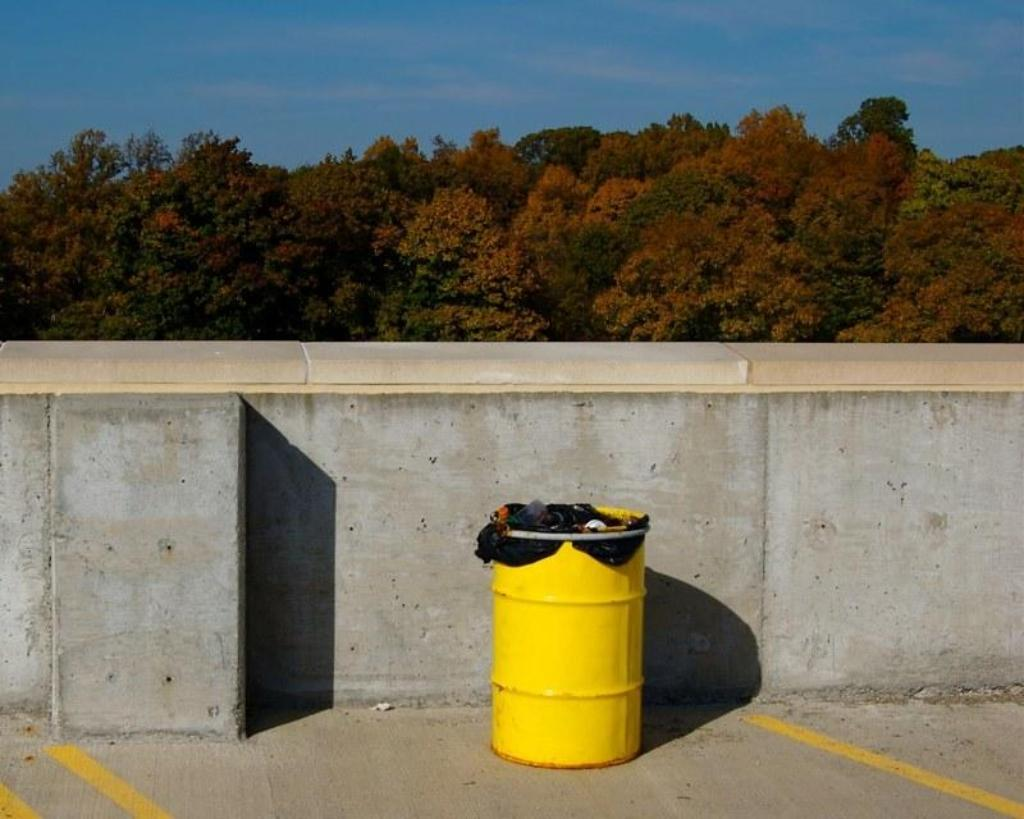dustbin: (483, 483, 659, 798)
